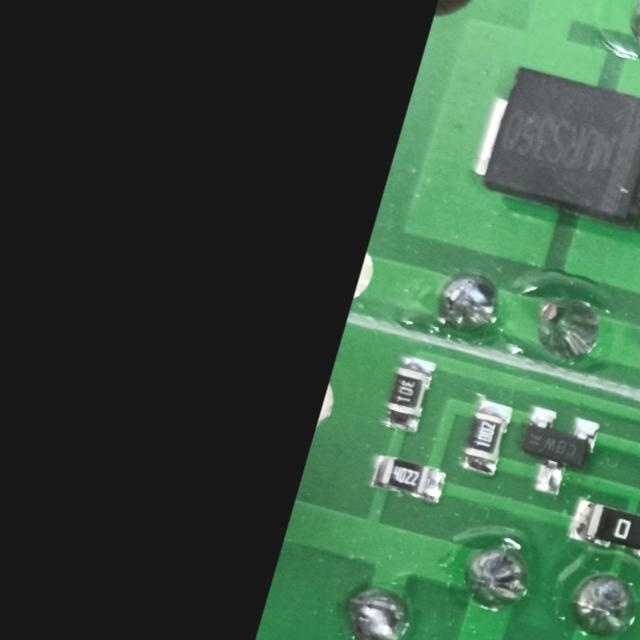chip-resistor: (564, 491, 640, 570), (381, 350, 440, 434), (366, 447, 450, 505), (455, 392, 513, 475)
diode: (464, 52, 640, 244)
transistor: (508, 398, 604, 502)
